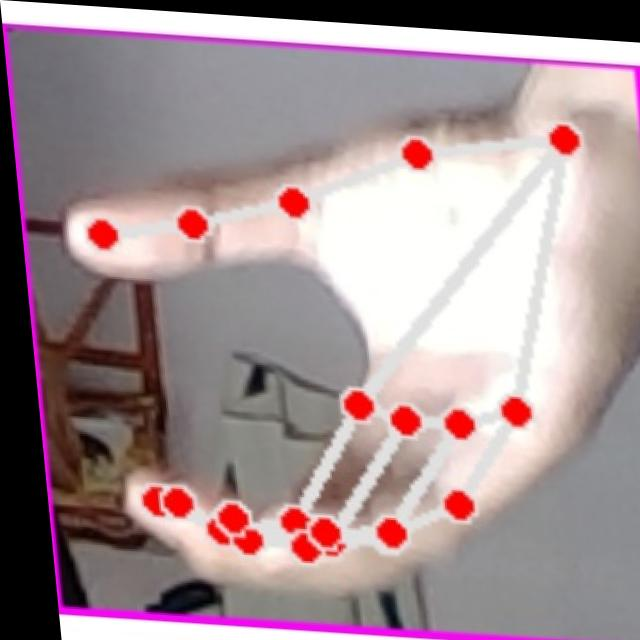C: (31, 63, 640, 615)
